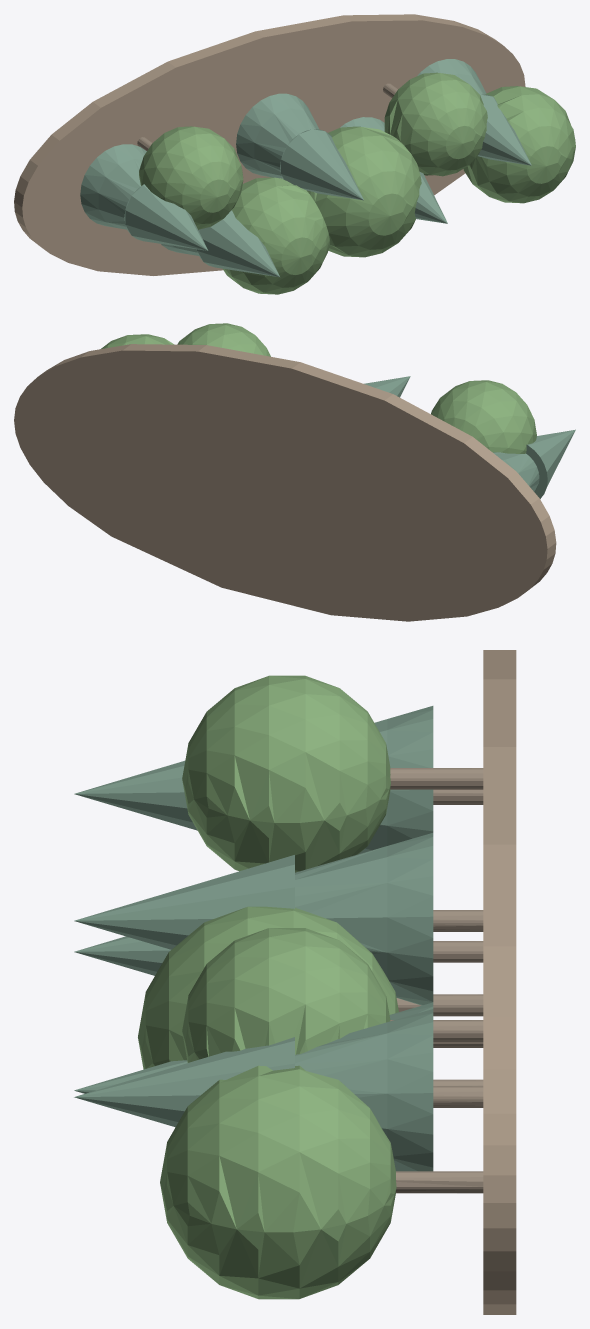
File: r-115-wooded-turning-island.glb
3 renders of one model, top to bottom at view 1: azimuth 30°, elevation 25°; view 2: azimuth 150°, elevation 25°; view 3: azimuth 270°, elevation 25°, orthographic. The views are drawn at different scales.
Parts seen in each view (by area): view 1: island-soil, hardwoods, pines; view 2: island-soil, hardwoods, pines; view 3: hardwoods, pines, island-soil, trunks.
Part boxes in pixels (bbox=[...]): island-soil: bbox=[14, 14, 525, 275]; hardwoods: bbox=[139, 72, 575, 294]; pines: bbox=[80, 59, 531, 277]; island-soil: bbox=[14, 344, 556, 621]; hardwoods: bbox=[100, 323, 536, 453]; pines: bbox=[364, 376, 575, 498]; hardwoods: bbox=[138, 675, 398, 1299]; pines: bbox=[74, 706, 433, 1171]; island-soil: bbox=[483, 650, 516, 1314]; trunks: bbox=[390, 768, 483, 1193].
Bounding box in the file's own units: 41998 × 17833 × 16000.
